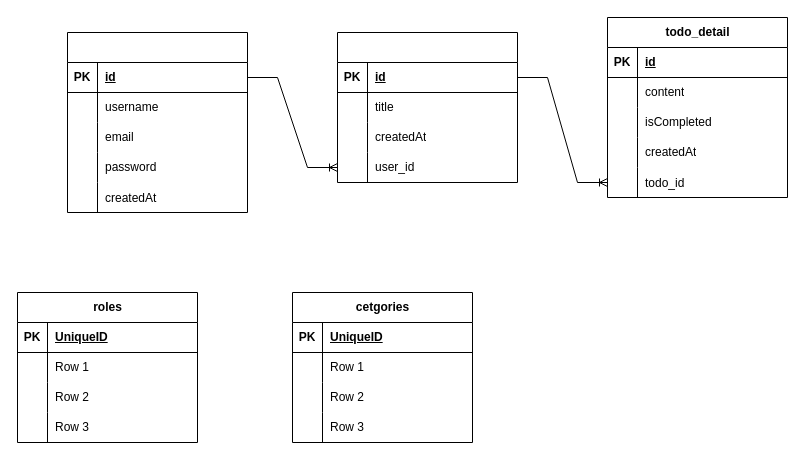
This 805x460 diagram has some shape labels left out. Each missing label, with the box of its shape:
todos: (336, 32, 518, 182)
users: (66, 32, 248, 212)
